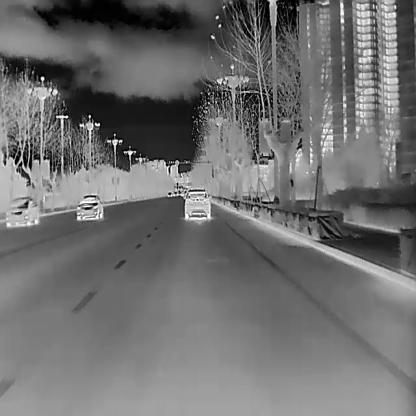car: (4, 193, 39, 227), (183, 187, 211, 218), (75, 192, 103, 221), (167, 192, 172, 197)
